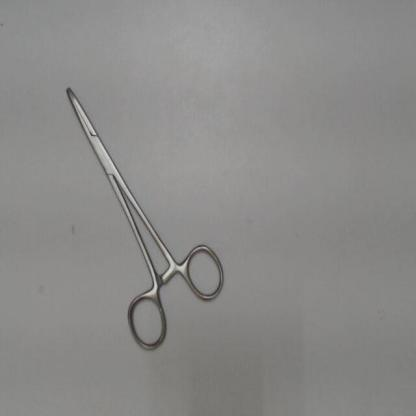Mayo Needle Holder: (56, 74, 232, 359)
